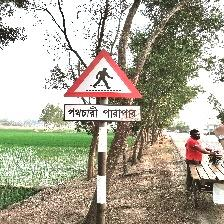Pedestrian-crossing: (62, 49, 143, 123)
